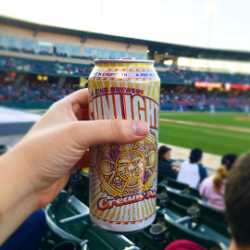can: (85, 56, 162, 233)
